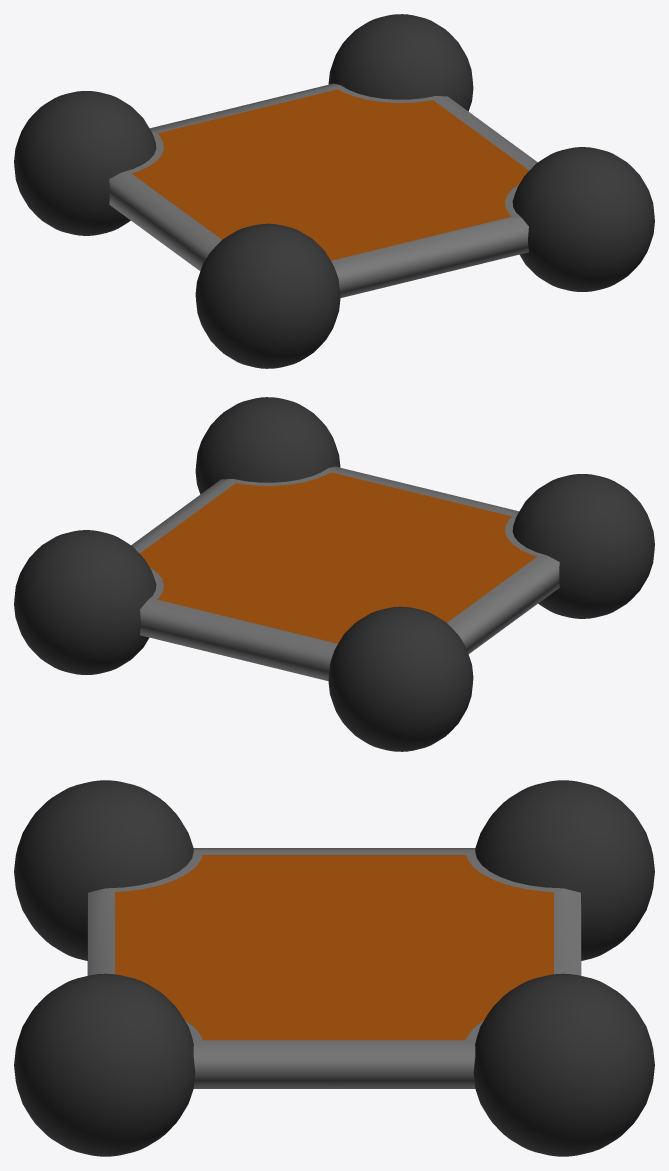
File: platform.glb
3 renders of one model, top to bottom at view 1: azimuth 30°, elevation 25°; view 2: azimuth 150°, elevation 25°; view 3: azimuth 270°, elevation 25°, orthographic. The views are drawn at different scales.
Visible parts, largest first — view 1: Cube; view 2: Cube; view 3: Cube.
Part boxes in pixels (x1,y1,x2,y2): Cube: [14, 14, 654, 368]; Cube: [14, 397, 654, 751]; Cube: [14, 780, 654, 1156].
Bounding box in the file's own units: 2.8 × 0.8 × 2.8.
